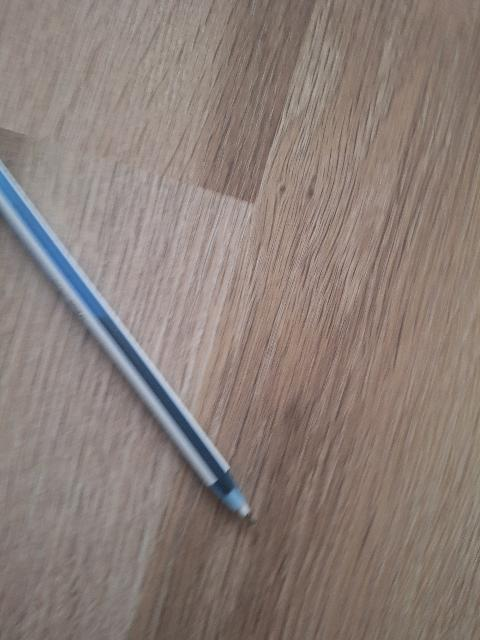writing_tool: (0, 163, 258, 533)
